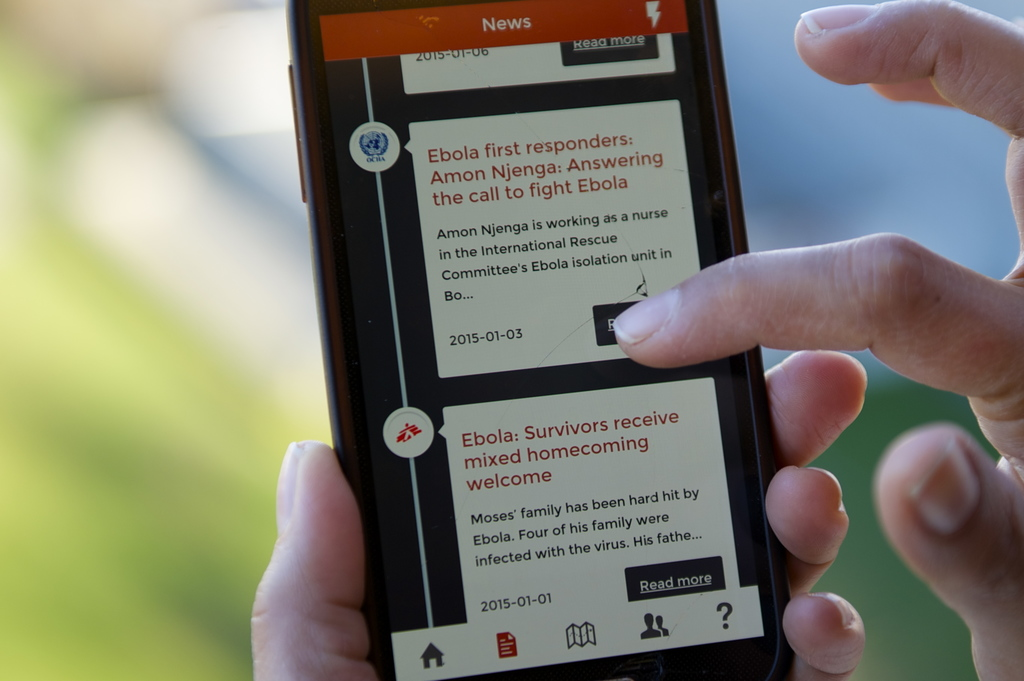Mobile-phone: (296, 0, 835, 668)
